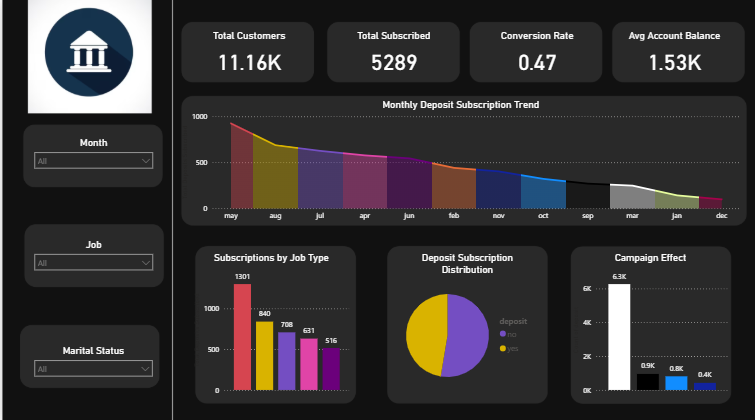

This screenshot's page, from the dashboard's own definition file:
{"tool":"powerbi","page":{"name":"Page 1","canvas":[1280,720],"ordinal":0},"visuals":[{"type":"card","title":"Total Customers","fields":{"Values":["CountNonNull(bank_clean.age)"]},"box":[321.9,49.1,193.1,88.9],"z":0},{"type":"card","title":"Total Subscribed","fields":{"Values":["bank_clean.Total Deposits Subscribed"]},"box":[567.2,49.1,193.1,88.9],"z":1},{"type":"card","title":"Conversion Rate","fields":{"Values":["bank_clean.Deposit Conversion Rate"]},"box":[810.6,50,194.8,89.5],"z":2},{"type":"card","title":"Avg Account Balance","fields":{"Values":["Avg(bank_clean.balance)"]},"box":[1042.2,50,194.8,89.5],"z":3},{"type":"areaChart","title":"Monthly Deposit Subscription Trend","fields":{"Category":["bank_clean.month"],"Y":["bank_clean.Total Deposits Subscribed"]},"box":[300,168.4,955.3,215.8],"z":4},{"type":"clusteredColumnChart","title":"Subscriptions by Job Type","fields":{"Category":["bank_clean.job"],"Y":["bank_clean.Total Deposits Subscribed"]},"box":[321.1,426.4,273.7,247.4],"z":5},{"type":"clusteredColumnChart","title":"Campaign Effect","fields":{"Category":["bank_clean.poutcome"],"Y":["CountNonNull(bank_clean.deposit)"]},"box":[963.2,426.4,273.7,247.4],"z":6},{"type":"pieChart","title":"Deposit Subscription Distribution","fields":{"Category":["bank_clean.deposit"],"Y":["CountNonNull(bank_clean.deposit)"]},"box":[663.2,426.4,252.7,247.4],"z":7},{"type":"slicer","title":"Month","fields":{"Values":["bank_clean.month"]},"box":[44.7,231.6,221.1,89.5],"z":8},{"type":"slicer","title":"Job","fields":{"Values":["bank_clean.job"]},"box":[44.7,405.3,221.1,89.5],"z":9},{"type":"slicer","title":"Marital Status","fields":{"Values":["bank_clean.marital"]},"box":[45,585,220,88.3],"z":10}]}

Visuals, with their boxes in screenshot pixels (x1, y1, x2, y2), scaled from the page's 1280x720 canvas onto the 755x420 screenshot:
"Total Customers" card: bbox(190, 29, 304, 80)
"Total Subscribed" card: bbox(335, 29, 448, 80)
"Conversion Rate" card: bbox(478, 29, 593, 81)
"Avg Account Balance" card: bbox(615, 29, 730, 81)
"Monthly Deposit Subscription Trend" areaChart: bbox(177, 98, 740, 224)
"Subscriptions by Job Type" clusteredColumnChart: bbox(189, 249, 351, 393)
"Campaign Effect" clusteredColumnChart: bbox(568, 249, 730, 393)
"Deposit Subscription Distribution" pieChart: bbox(391, 249, 540, 393)
"Month" slicer: bbox(26, 135, 157, 187)
"Job" slicer: bbox(26, 236, 157, 289)
"Marital Status" slicer: bbox(27, 341, 156, 393)
